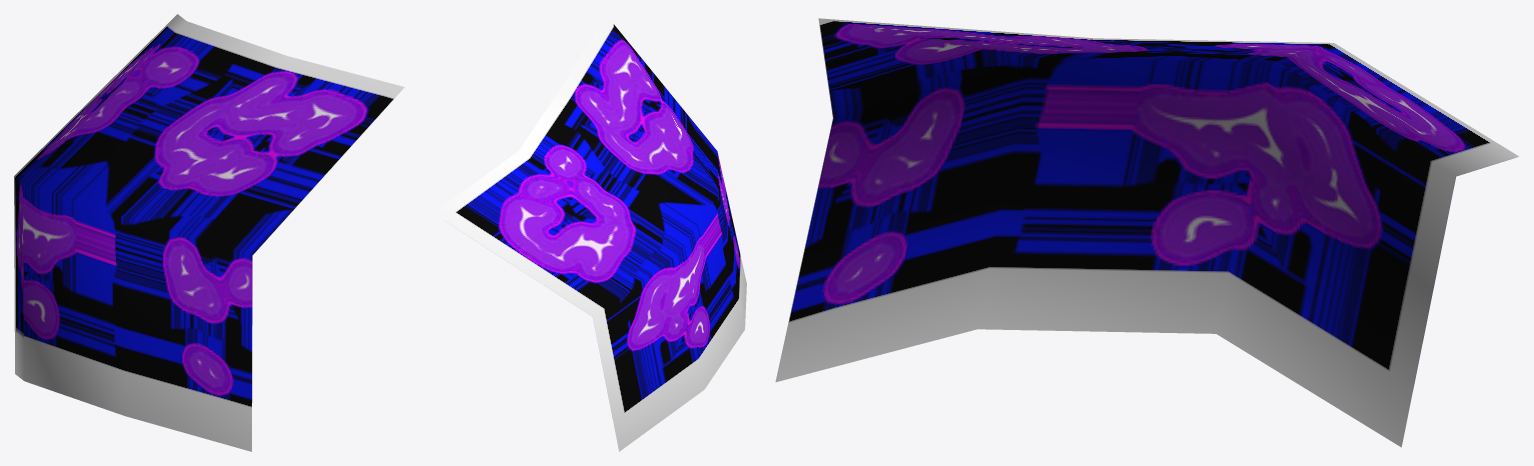
The model's file is eff_lightningbow_01.FBX.
3 renders of one model, left to right at view 1: azimuth 30°, elevation 25°; view 2: azimuth 150°, elevation 25°; view 3: azimuth 270°, elevation 25°, orthographic. The views are drawn at different scales.
Parts seen in each view (by area): view 1: eff_lightningbow_01; view 2: eff_lightningbow_01; view 3: eff_lightningbow_01.
Part boxes in pixels (box(x1,y1,x2,y2)): eff_lightningbow_01: box(14, 14, 404, 451); eff_lightningbow_01: box(433, 14, 746, 451); eff_lightningbow_01: box(775, 18, 1518, 447).
Bounding box in the file's own units: 0.5519 × 0.7776 × 0.8968.
